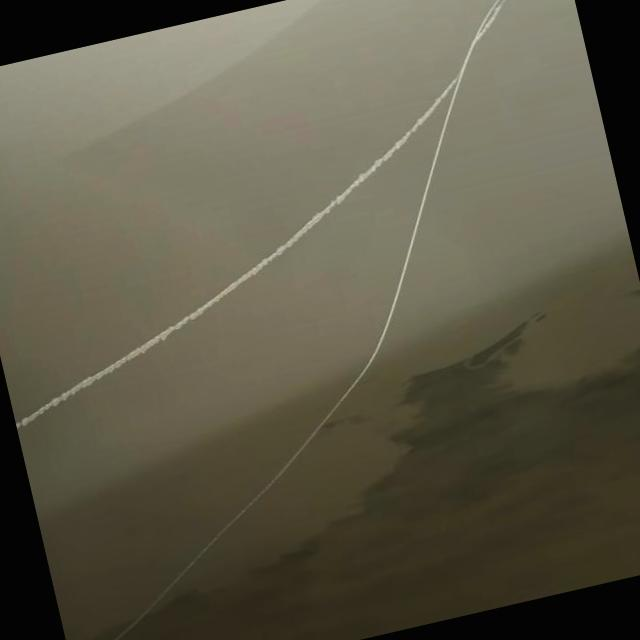crack: (106, 216, 477, 628), (85, 117, 431, 385)
